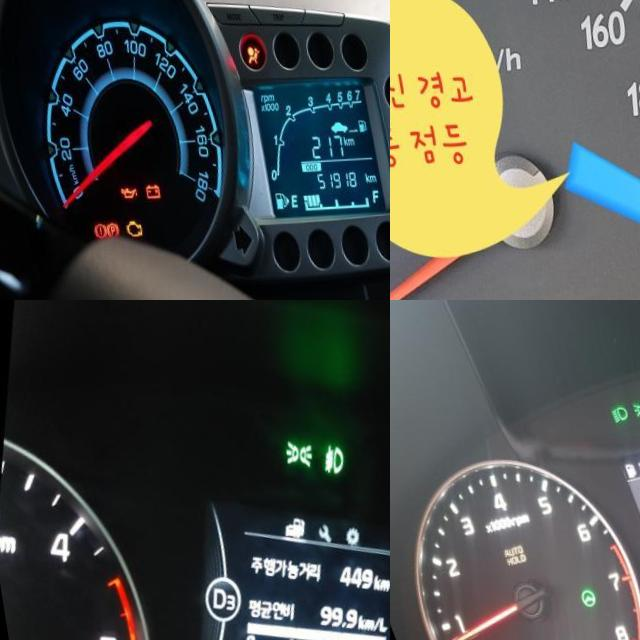FrontFogLight: (310, 444, 341, 479)
Low beam: (602, 406, 622, 425)
SideLamp: (273, 440, 308, 471), (622, 400, 640, 419)
